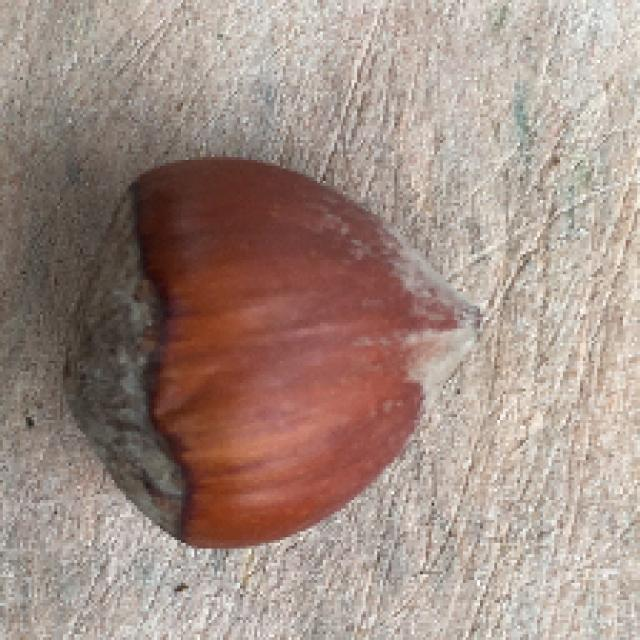QualityHazelnut: (65, 159, 491, 559)
